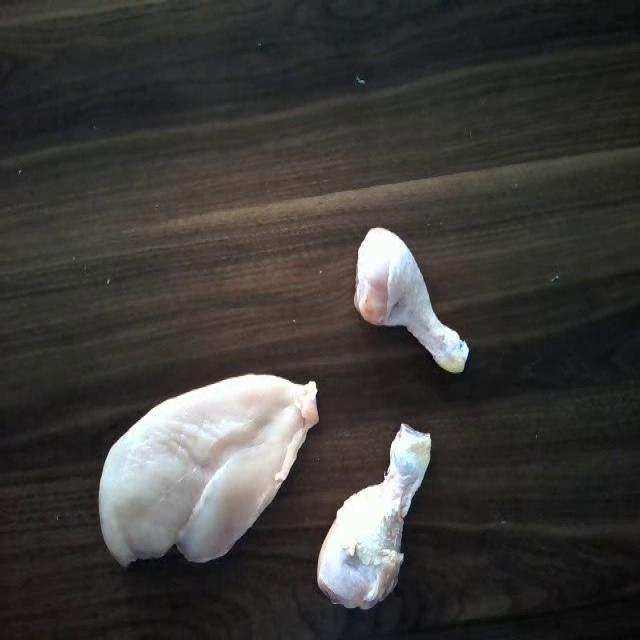breast: (98, 364, 316, 556)
leg: (316, 427, 444, 611), (350, 222, 468, 388)
